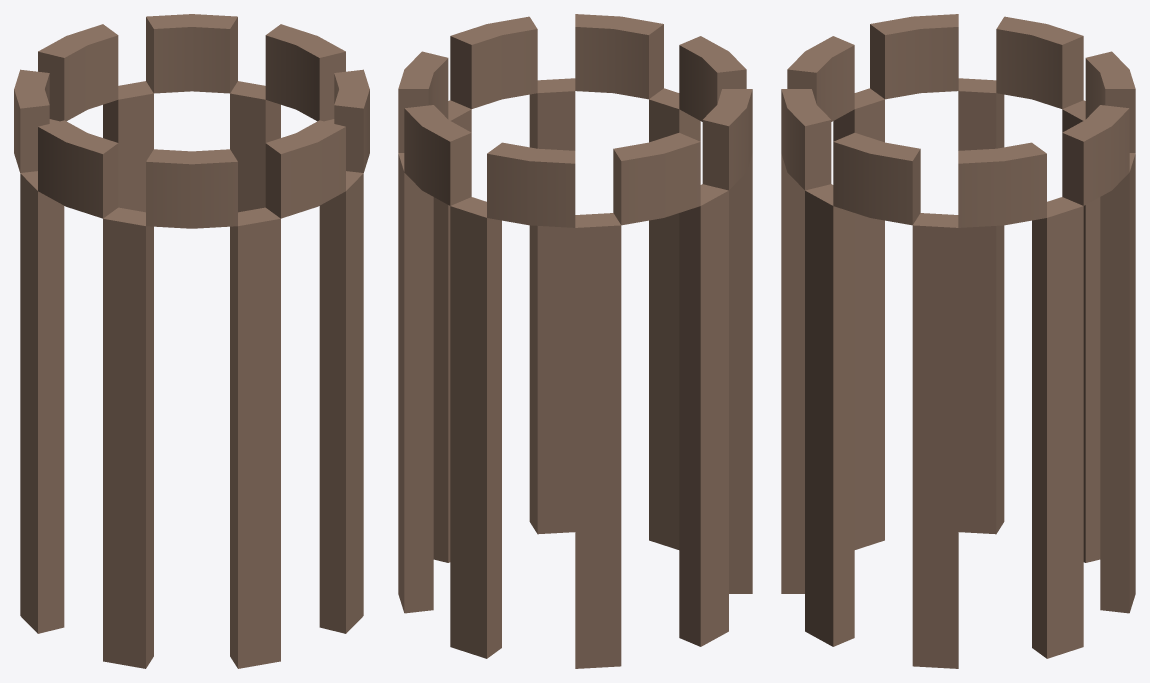
File: UvmappedFence.fbx
The picture shows the model from 3 angles, left to right: view 1: azimuth 30°, elevation 25°; view 2: azimuth 150°, elevation 25°; view 3: azimuth 270°, elevation 25°; orthographic projection.
Visible parts, largest first — view 1: ritual_fence; view 2: ritual_fence; view 3: ritual_fence.
Part boxes in pixels (x1,y1,x2,y2): ritual_fence: (14,14,369,668); ritual_fence: (398,14,752,668); ritual_fence: (781,14,1135,668).
Bounding box in the file's own units: 5 × 7.87 × 5.
